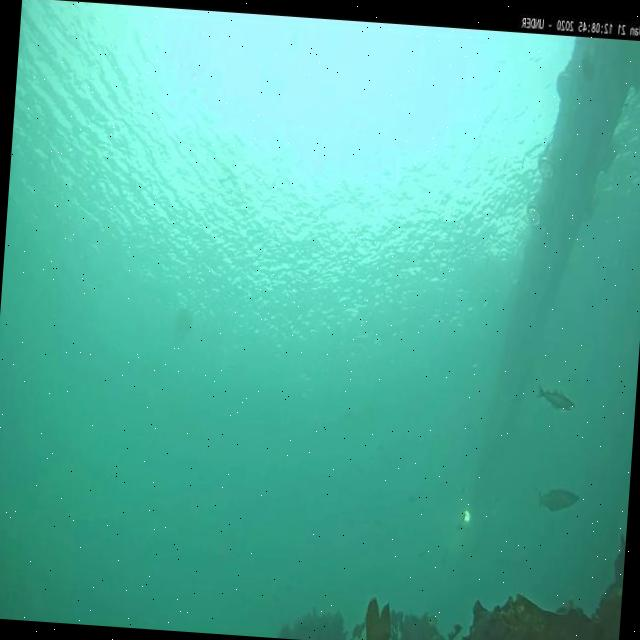fish: (539, 483, 580, 518), (538, 388, 576, 414)
